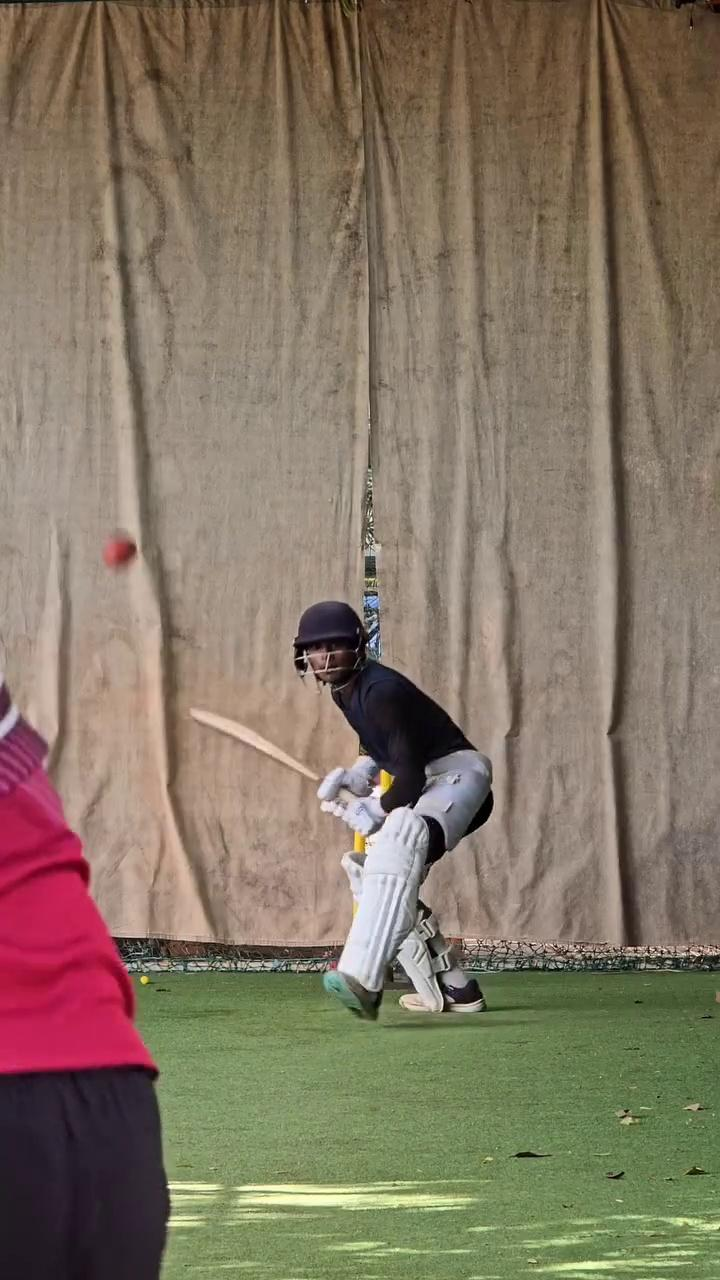bat: (182, 697, 327, 790)
